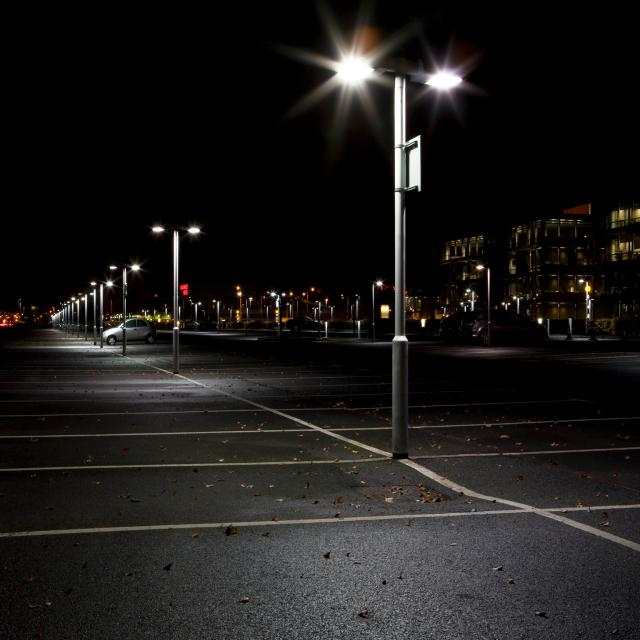Street Light: (337, 51, 463, 462), (152, 223, 201, 373), (108, 262, 139, 356), (91, 281, 113, 349), (475, 264, 493, 342), (578, 277, 592, 339), (78, 290, 95, 340), (270, 292, 287, 338), (370, 281, 382, 340), (71, 296, 86, 338)
